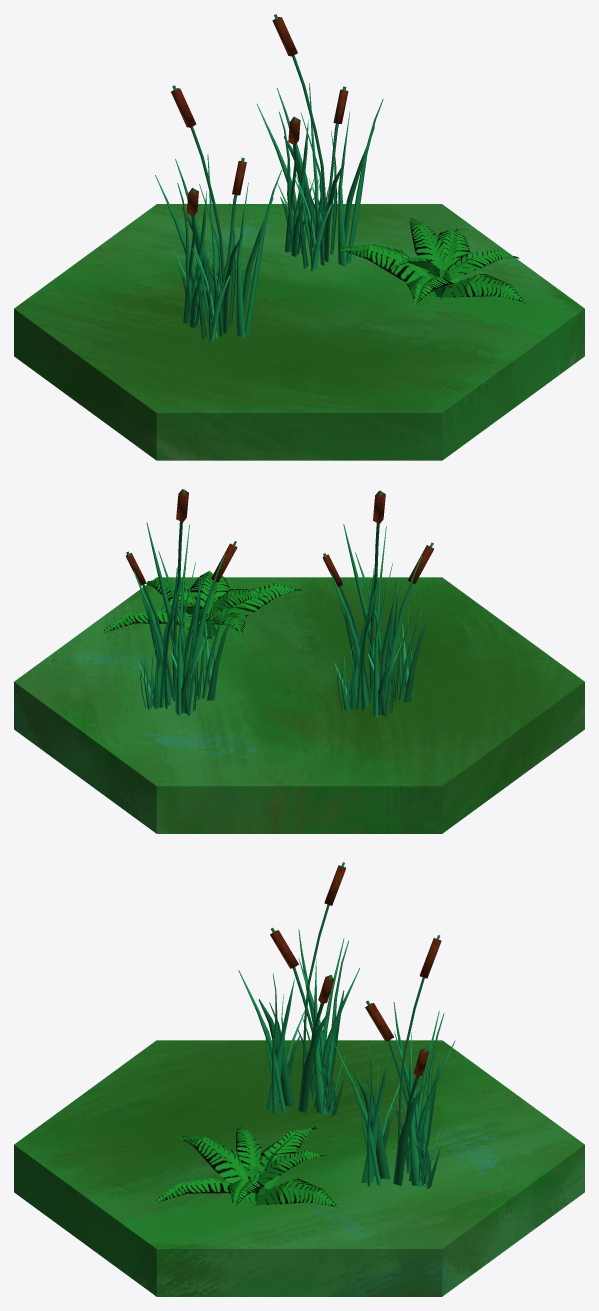
Rendered from SwampLvl1.fbx.
3 renders of one model, top to bottom at view 1: azimuth 30°, elevation 25°; view 2: azimuth 150°, elevation 25°; view 3: azimuth 270°, elevation 25°, orthographic.
Visible parts, largest first — view 1: Land, bigGrass.003, bigGrass, Reed.001, Reed, bigGrass.005, bigGrass.002, smallGrass.003, smallGrass, Leave, Leave.002, bigGrass.001 (+7 smaller); view 2: Land, Reed.001, Reed, bigGrass.002, bigGrass.005, bigGrass.004, bigGrass.001, bigGrass.003, bigGrass, smallGrass.003, smallGrass, Leave.003 (+8 smaller); view 3: Land, bigGrass.001, bigGrass.004, bigGrass.003, bigGrass, Reed, Reed.001, Leave.003, Leave.001, Leave, bigGrass.002, bigGrass.005 (+7 smaller).
Boxes of the visible parts, left/top/right/bottom form: Land: left=14, top=204, right=584, bottom=460; bigGrass.003: left=222, top=170, right=281, bottom=338; bigGrass: left=323, top=99, right=383, bottom=266; Reed.001: left=171, top=85, right=246, bottom=323; Reed: left=272, top=14, right=348, bottom=251; bigGrass.005: left=155, top=175, right=213, bottom=320; bigGrass.002: left=257, top=104, right=315, bottom=248; smallGrass.003: left=192, top=245, right=230, bottom=342; smallGrass: left=294, top=173, right=331, bottom=270; Leave: left=340, top=244, right=436, bottom=299; Leave.002: left=440, top=274, right=527, bottom=305; bigGrass.001: left=277, top=83, right=337, bottom=254; Land: left=14, top=577, right=584, bottom=833; Reed.001: left=322, top=490, right=433, bottom=717; Reed: left=126, top=489, right=237, bottom=715; bigGrass.002: left=164, top=554, right=225, bottom=715; bigGrass.005: left=361, top=556, right=421, bottom=717; bigGrass.004: left=330, top=568, right=382, bottom=709; bigGrass.001: left=133, top=566, right=185, bottom=707; bigGrass.003: left=343, top=524, right=397, bottom=686; bigGrass: left=146, top=522, right=200, bottom=684; smallGrass.003: left=389, top=605, right=430, bottom=702; smallGrass: left=192, top=603, right=233, bottom=700; Leave.003: left=208, top=583, right=303, bottom=638; Land: left=14, top=1040, right=584, bottom=1296; bigGrass.001: left=393, top=1013, right=455, bottom=1186; bigGrass.004: left=298, top=940, right=359, bottom=1114; bigGrass.003: left=238, top=970, right=294, bottom=1113; bigGrass: left=333, top=1043, right=389, bottom=1186; Reed: left=365, top=935, right=441, bottom=1180; Reed.001: left=270, top=862, right=345, bottom=1107; Leave.003: left=180, top=1136, right=254, bottom=1203; Leave.001: left=255, top=1178, right=340, bottom=1210; Leave: left=253, top=1127, right=317, bottom=1201; bigGrass.002: left=393, top=1002, right=439, bottom=1164; bigGrass.005: left=298, top=929, right=344, bottom=1094.
Size of the model in its own units: 173 by 108 by 200.
3 materials, 3 textured.
